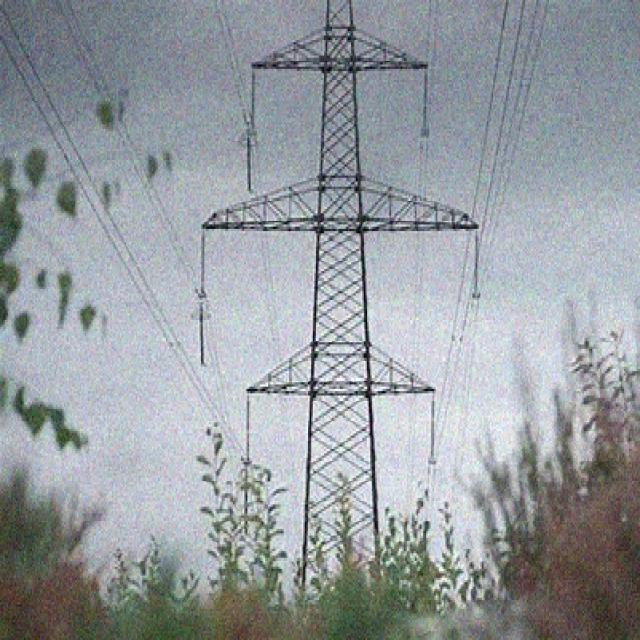utility poles: (199, 376, 473, 636)
